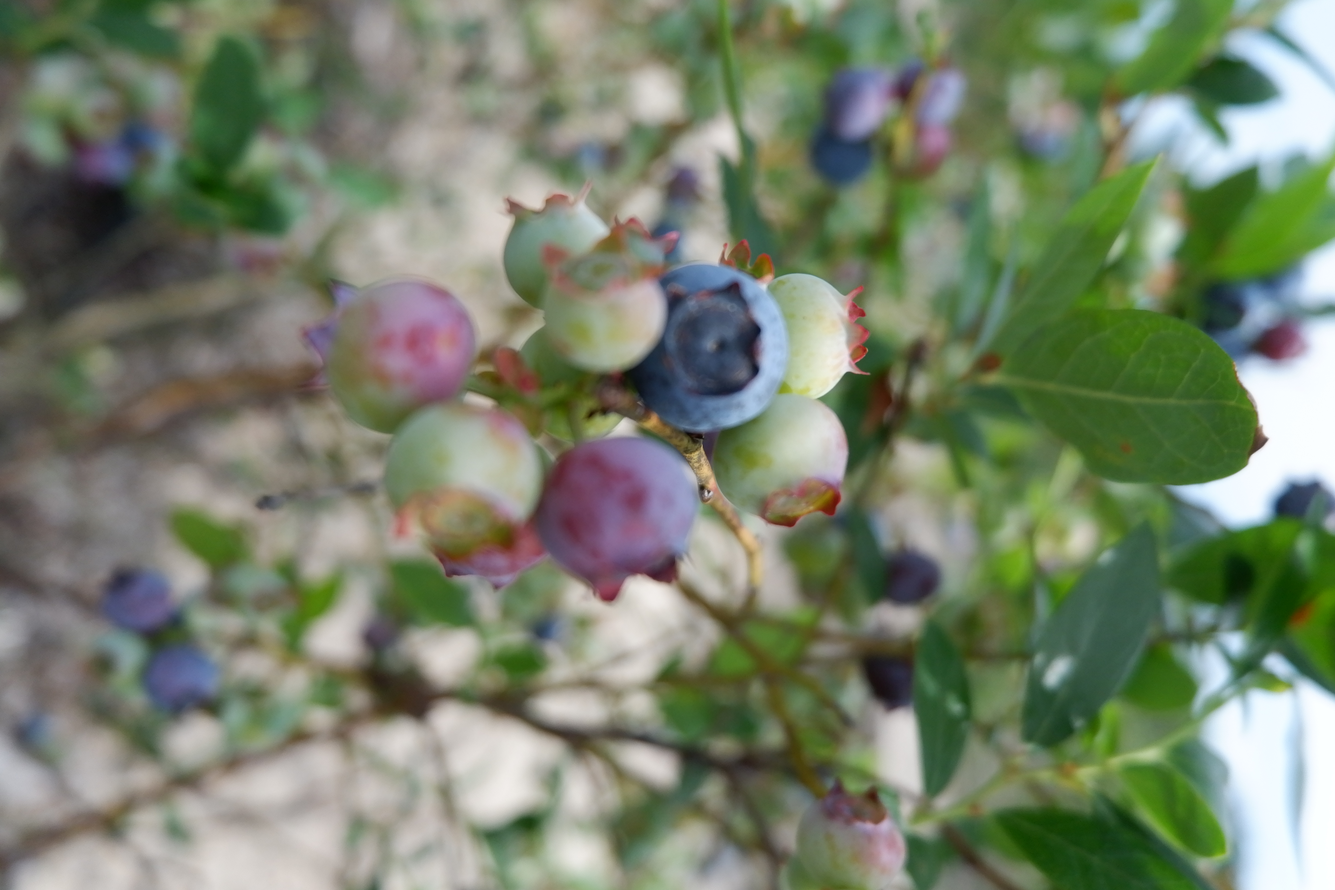Immature: (298, 278, 474, 430), (381, 396, 544, 551), (538, 438, 696, 596), (714, 398, 845, 523), (509, 330, 645, 443), (543, 245, 664, 370), (504, 189, 608, 304), (769, 275, 866, 396), (799, 784, 906, 886), (432, 507, 548, 594)
Mature: (633, 259, 785, 428)
